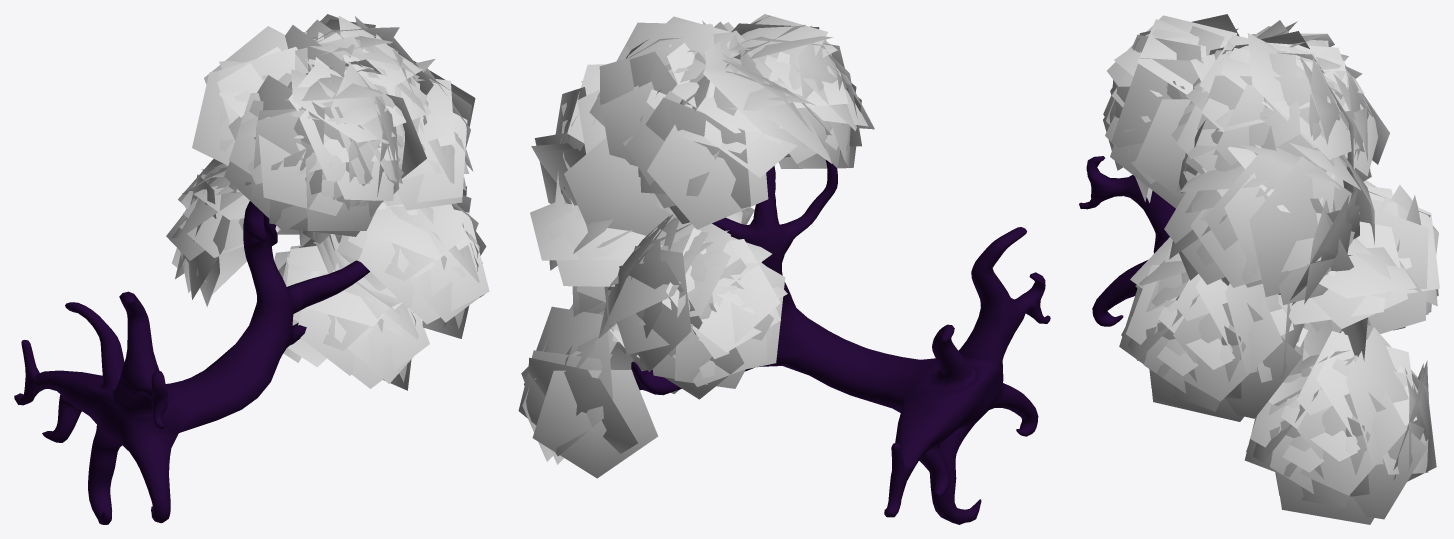
File: Tree03_02_2.fbx
3 renders of one model, left to right at view 1: azimuth 30°, elevation 25°; view 2: azimuth 150°, elevation 25°; view 3: azimuth 270°, elevation 25°, orthographic. The views are drawn at different scales.
Parts seen in each view (by area): view 1: Cube.006, Circle.690, Circle.693, Circle.605, Circle.602, Circle.532, Circle.564, Circle.663, Circle.631, Circle.694, Circle.606, Circle.598 (+42 smaller); view 2: Cube.006, Circle.600, Circle.565, Circle.530, Circle.587, Circle.575, Circle.640, Circle.590, Circle.555, Circle.495, Circle.645, Circle.470 (+41 smaller); view 3: Circle.505, Cube.006, Circle.655, Circle.571, Circle.668, Circle.575, Circle.627, Circle.487, Circle.592, Circle.626, Circle.684, Circle.507 (+82 smaller).
Boxes of the visible parts, x1,y1,x2,y2 form: Cube.006: (14,201,369,524); Circle.690: (337,204,467,281); Circle.693: (410,209,489,324); Circle.605: (258,117,342,215); Circle.602: (324,264,429,388); Circle.532: (384,112,467,206); Circle.564: (192,71,234,165); Circle.663: (366,206,448,260); Circle.631: (305,152,400,230); Circle.694: (359,202,414,308); Circle.606: (330,63,381,183); Circle.598: (283,253,396,350); Cube.006: (631,160,1050,524); Circle.600: (532,369,658,478); Circle.565: (647,104,768,229); Circle.530: (564,137,676,235); Circle.587: (546,208,645,286); Circle.575: (524,306,612,399); Circle.640: (698,239,780,352); Circle.590: (534,365,637,453); Circle.555: (669,102,750,224); Circle.495: (601,72,677,166); Circle.645: (616,246,691,371); Circle.470: (597,22,714,96); Circle.505: (1249,156,1351,296); Cube.006: (1079,156,1175,326); Circle.655: (1331,208,1428,338); Circle.571: (1271,355,1406,495); Circle.668: (1145,273,1282,401); Circle.575: (1346,327,1417,464); Circle.627: (1111,58,1203,147); Circle.487: (1185,75,1334,174); Circle.592: (1280,392,1427,519); Circle.626: (1134,99,1190,199); Circle.684: (1157,303,1302,418); Circle.507: (1204,154,1334,287).
Size of the model in its own units: 8.66 by 6.22 by 8.88.
